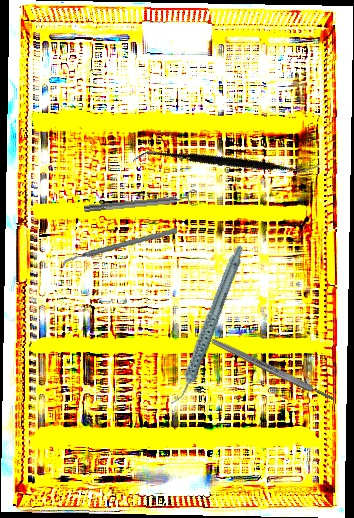Chopper: (61, 211, 178, 285)
Fixation Ring: (83, 189, 199, 217)
Handpiece: (139, 242, 275, 409)
Scalpel Handle: (210, 336, 336, 404)
Spatula Surgical: (132, 84, 320, 242)
